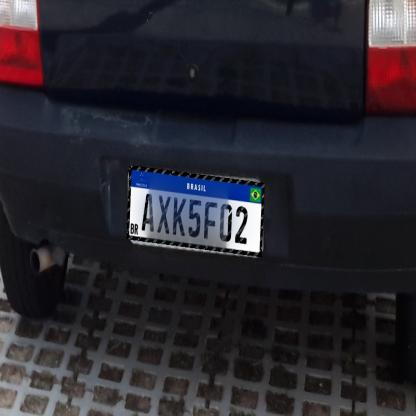PlacaM: (126, 165, 264, 257)
